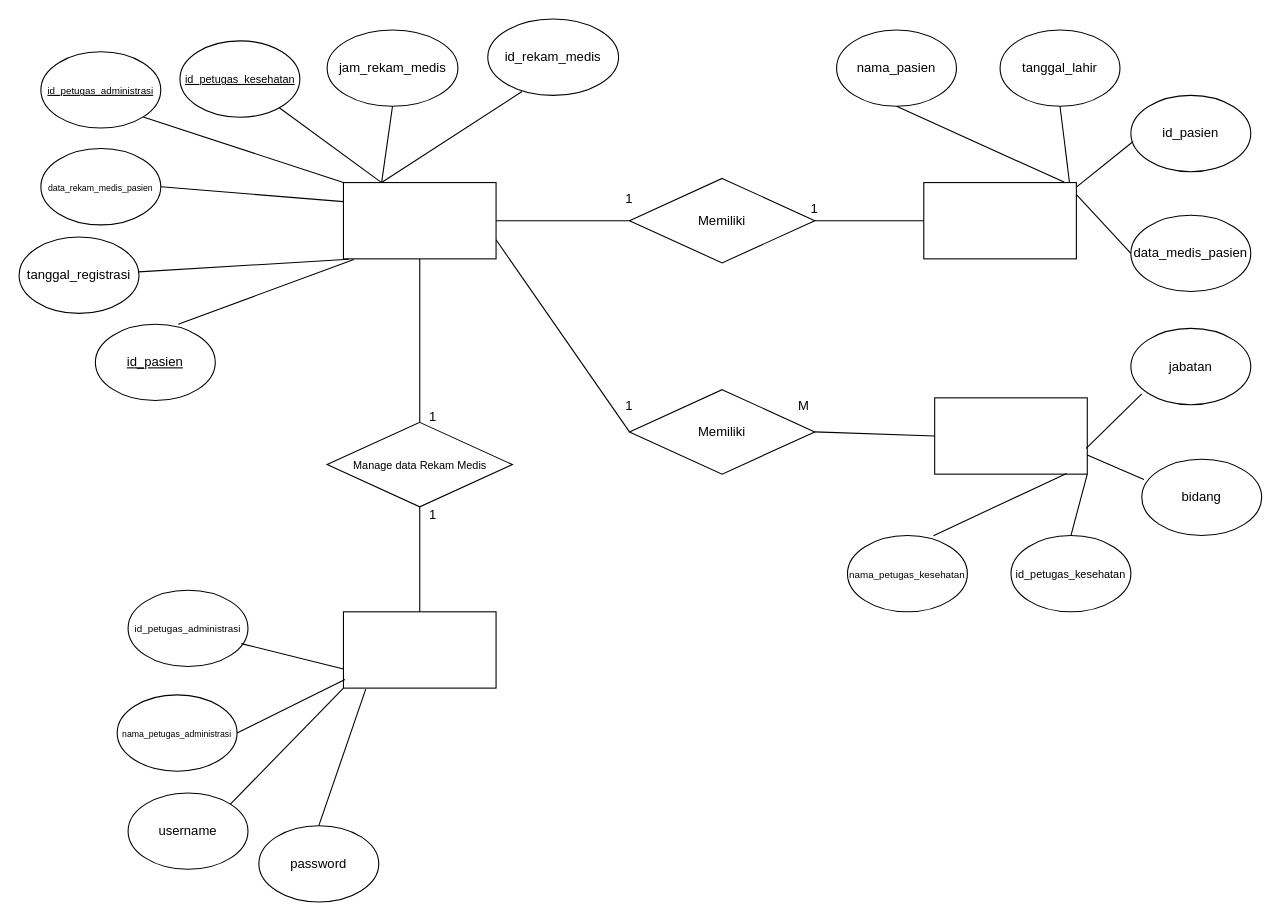
Some shapes in this 1281 by 921 pixel diagram are drawn without their labels. Each missing label, with the centre of its shape:
Pasien: (999,220)
Petugas Administrasi: (419,649)
Petugas Kesehatan: (1010,435)
Rekam Medis: (419,220)
